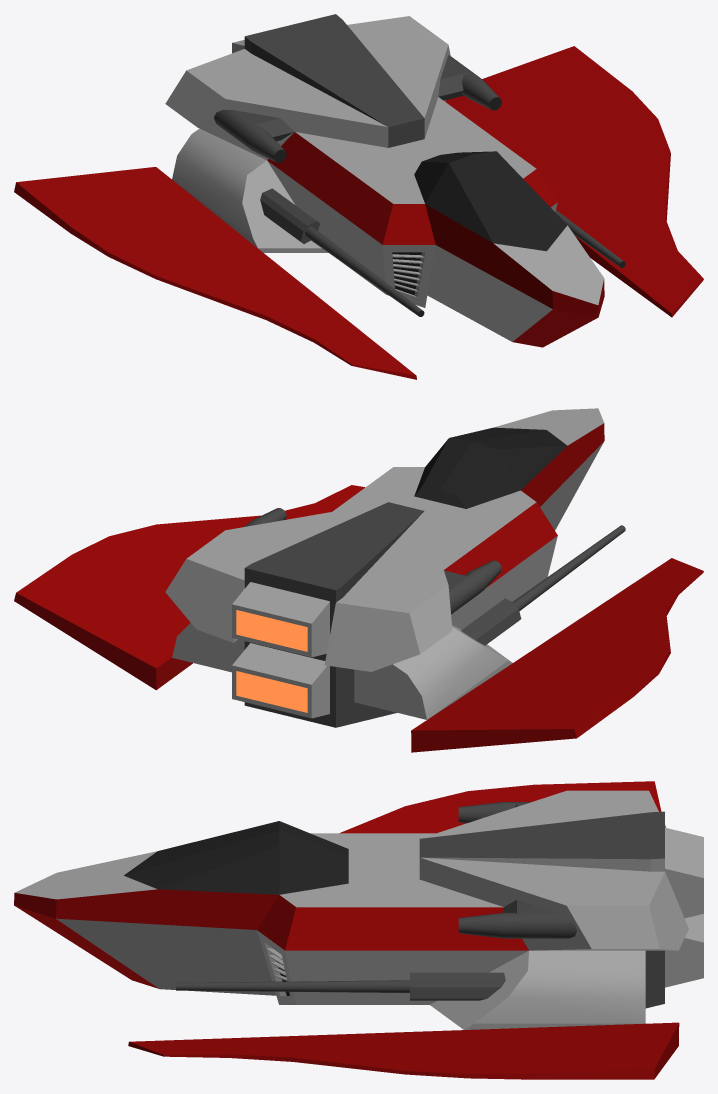
File: SpaceshipSilverwolf (1).fbx
3 renders of one model, top to bottom at view 1: azimuth 30°, elevation 25°; view 2: azimuth 150°, elevation 25°; view 3: azimuth 270°, elevation 25°, orthographic. The views are drawn at different scales.
Visible parts, largest first — view 1: SpaceshipSilverwolf; view 2: SpaceshipSilverwolf; view 3: SpaceshipSilverwolf.
Boxes of the visible parts, x1,y1,x2,y2 form: SpaceshipSilverwolf: (14, 14, 703, 379); SpaceshipSilverwolf: (14, 408, 703, 752); SpaceshipSilverwolf: (14, 781, 703, 1079).
Size of the model in its own units: 265 by 63.85 by 266.
